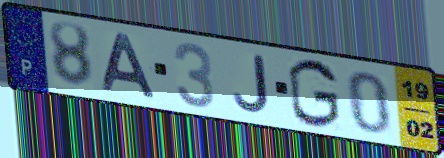0: (344, 68, 396, 135)
3: (173, 41, 216, 109)
8: (47, 20, 94, 91)
A: (100, 32, 159, 101)
G: (285, 56, 342, 130)
J: (230, 53, 272, 115)
